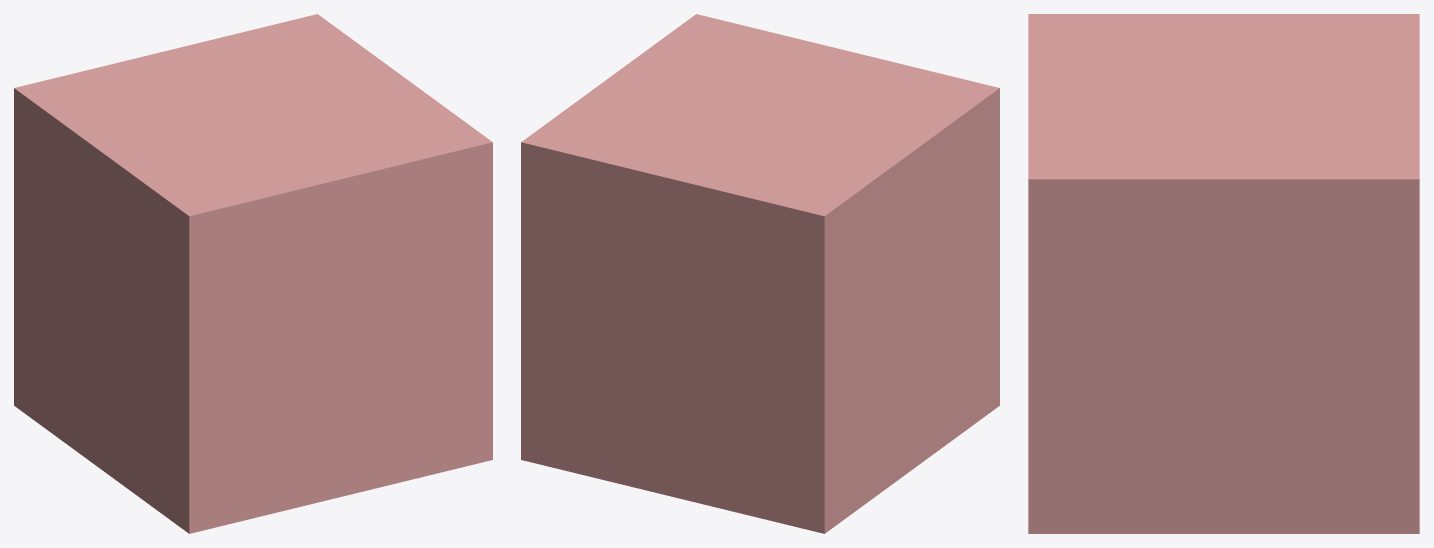
Rendered from Container.glb.
The picture shows the model from 3 angles, left to right: view 1: azimuth 30°, elevation 25°; view 2: azimuth 150°, elevation 25°; view 3: azimuth 270°, elevation 25°; orthographic projection. The views are drawn at different scales.
Parts seen in each view (by area): view 1: container_sensor; view 2: container_sensor; view 3: container_sensor.
Boxes of the visible parts, left/top/right/bottom form: container_sensor: left=14, top=14, right=492, bottom=533; container_sensor: left=521, top=14, right=999, bottom=533; container_sensor: left=1028, top=14, right=1419, bottom=533.
Size of what is drawn, in the model's own units: 4.97 by 4.97 by 4.97.
